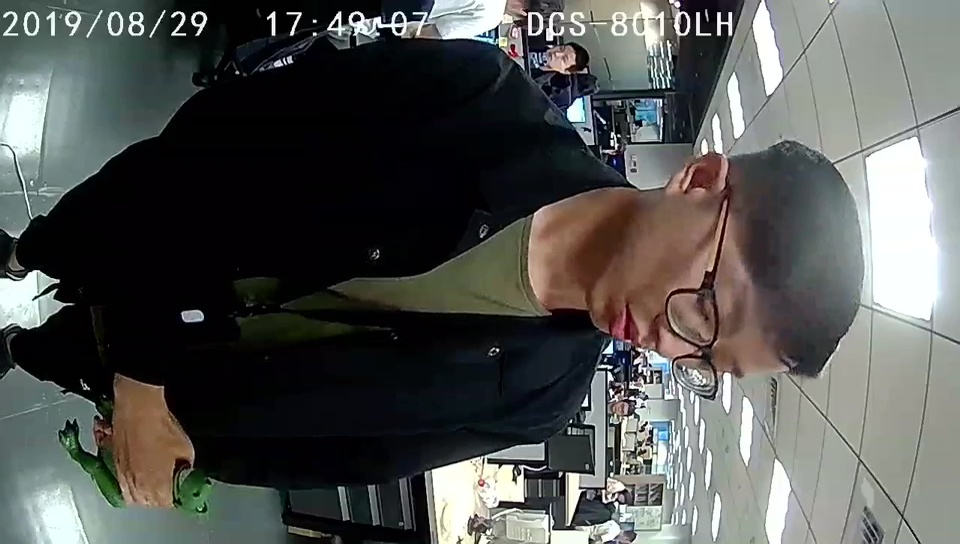rex: (58, 416, 213, 516)
